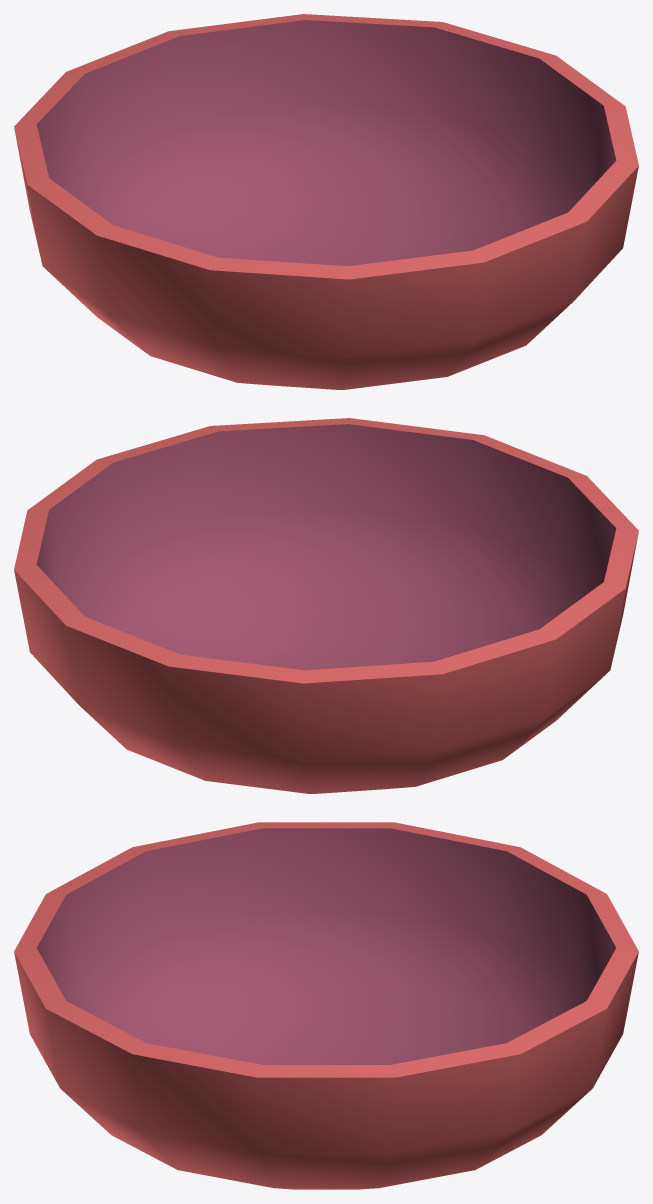
File: Bowl1_geo.fbx
3 renders of one model, top to bottom at view 1: azimuth 30°, elevation 25°; view 2: azimuth 150°, elevation 25°; view 3: azimuth 270°, elevation 25°, orthographic.
Parts seen in each view (by area): view 1: Bowl1_geo; view 2: Bowl1_geo; view 3: Bowl1_geo.
Part boxes in pixels (x1,y1,x2,y2): Bowl1_geo: [14, 14, 638, 389]; Bowl1_geo: [14, 418, 638, 793]; Bowl1_geo: [14, 822, 638, 1189].
Size of the model in its own units: 0.6549 by 0.6776 by 0.23.
